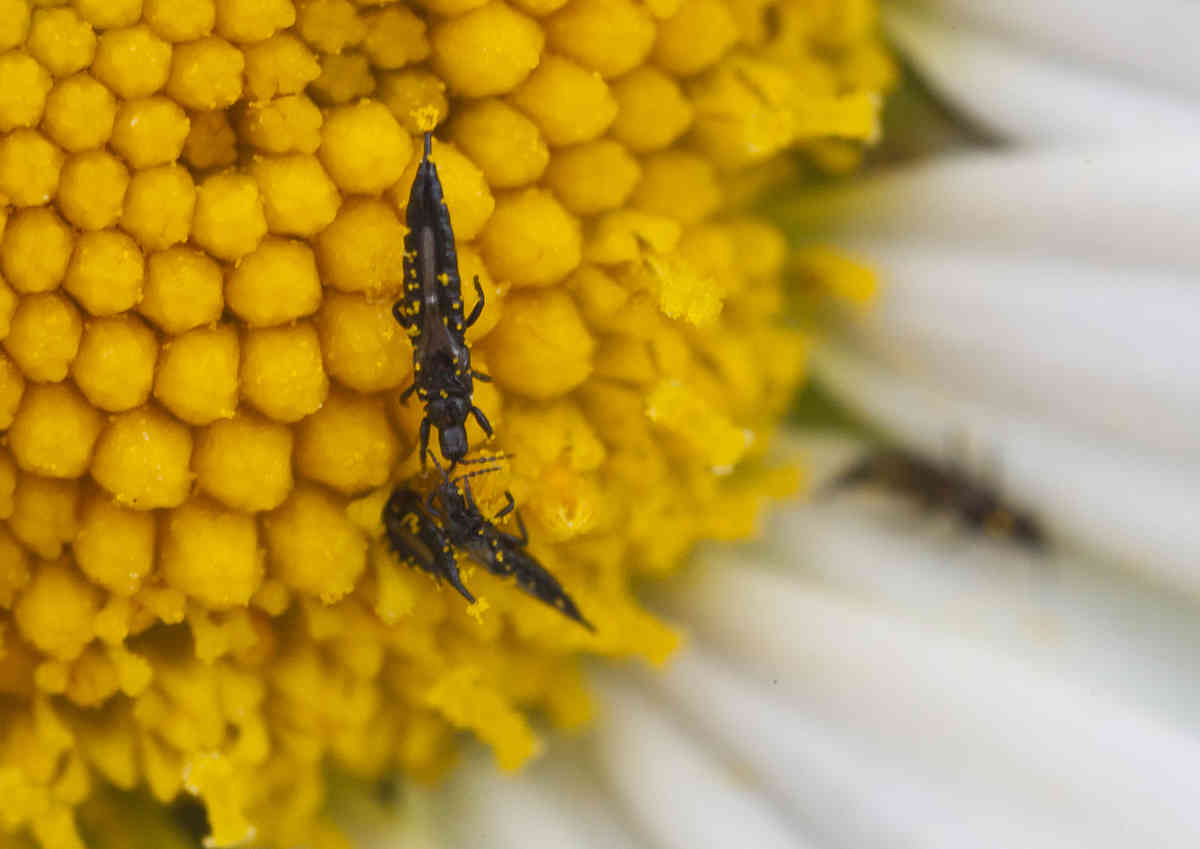Phlaeothripidae: (384, 128, 507, 470), (440, 476, 613, 641), (392, 481, 476, 605)
